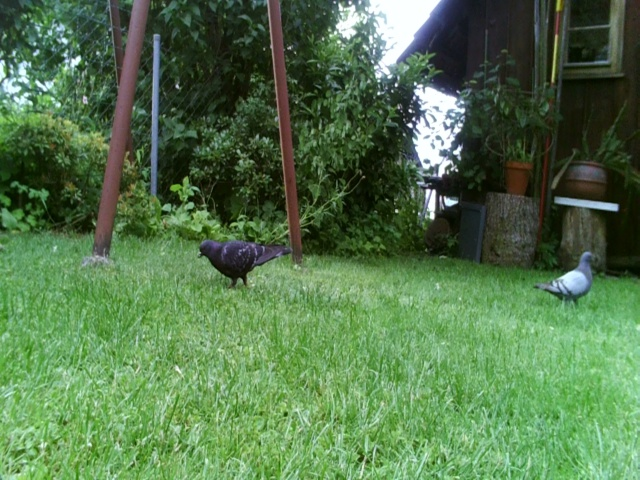Pigeon: (196, 233, 300, 296), (524, 246, 608, 312)
